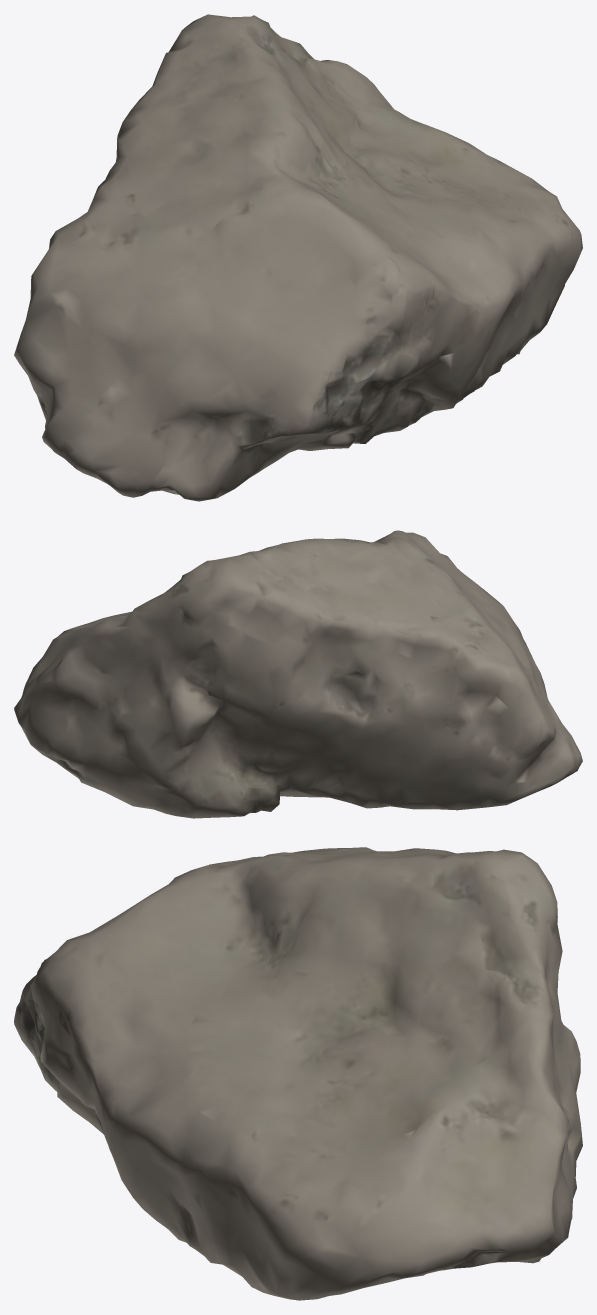
File: moon_rock_03.glb
3 views of the same model, one above another, from view 1: azimuth 30°, elevation 25°; view 2: azimuth 150°, elevation 25°; view 3: azimuth 270°, elevation 25° (orthographic). The views are drawn at different scales.
Visible parts, largest first — view 1: moon_rock_03_LOD0; view 2: moon_rock_03_LOD0; view 3: moon_rock_03_LOD0.
Part boxes in pixels (bbox=[...]): moon_rock_03_LOD0: bbox=[14, 14, 582, 501]; moon_rock_03_LOD0: bbox=[14, 530, 582, 818]; moon_rock_03_LOD0: bbox=[14, 847, 582, 1300].
Bounding box in the file's own units: 0.112 × 0.0582 × 0.0861.
Materials: 1 (1 with a texture image).
